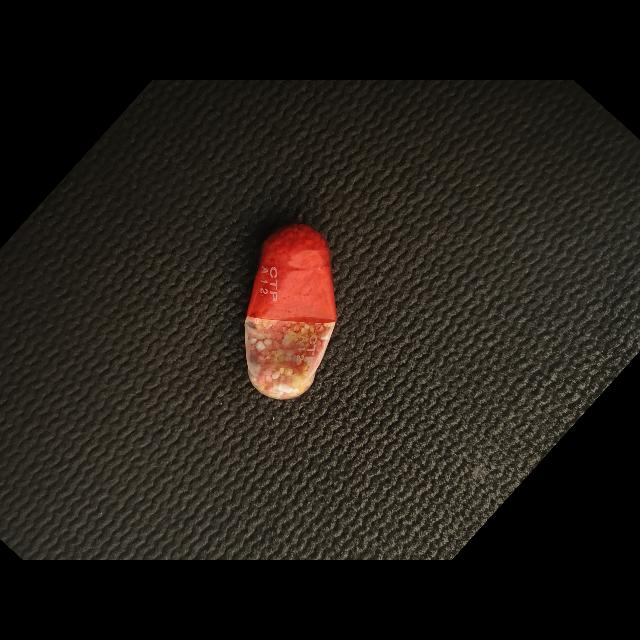Defective Capsule: (244, 224, 337, 400)
